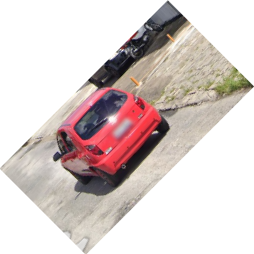car: (52, 86, 171, 187)
